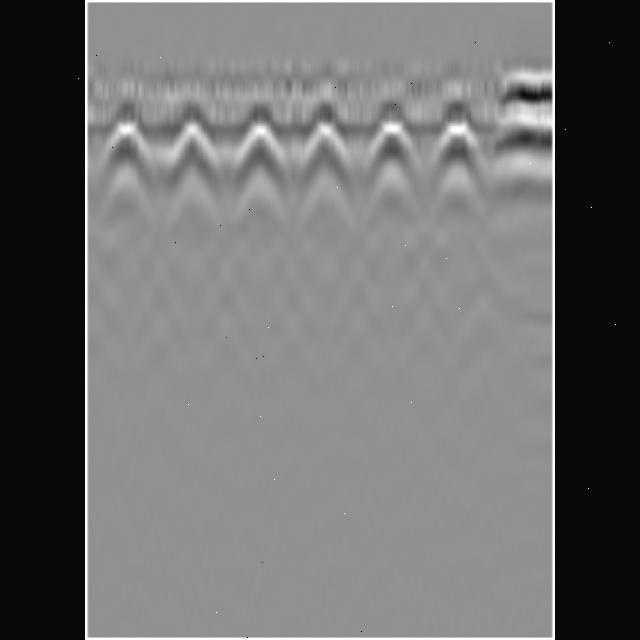hyperbola: (166, 114, 230, 186), (362, 113, 428, 181), (232, 113, 294, 183), (432, 113, 490, 185), (100, 114, 162, 180), (300, 116, 360, 184)
